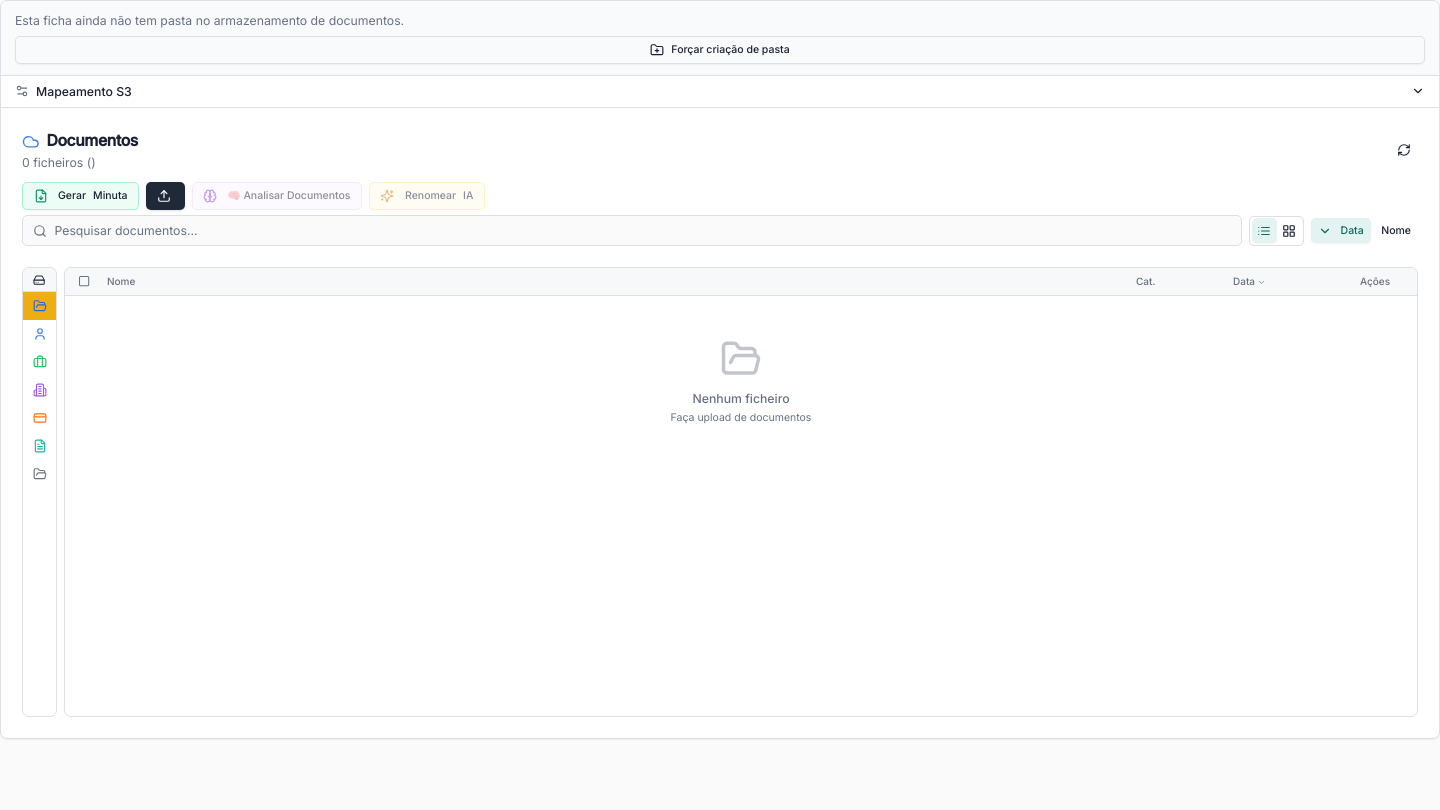
Scenario: S3FileManager — «Forçar criação de pasta» (Lote 6) › depois do sucesso o painel «Mapeamento S3» fecha (a dropdown velha desaparece) e o explorador é relido (Lote 7.3)
Click the button with test id "s3-mapping-toggle": coordinates (84, 91) [1, 76, 1439, 107]
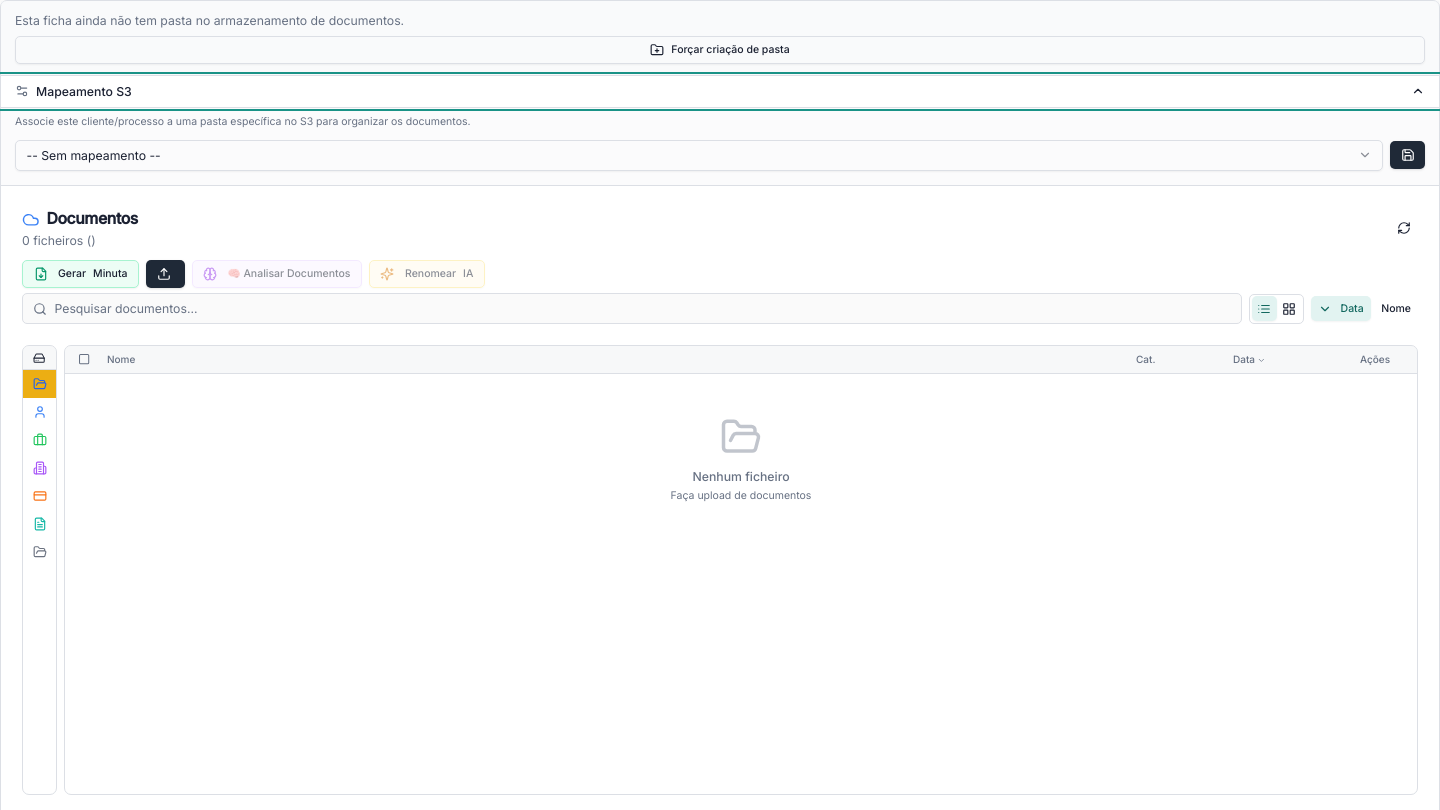
Now the dropdown with test id "s3-folder-select" is shown, box [15, 140, 1383, 171]
Click the button with test id "forcar-pasta-s3-btn": coordinates (720, 50) [15, 36, 1425, 64]
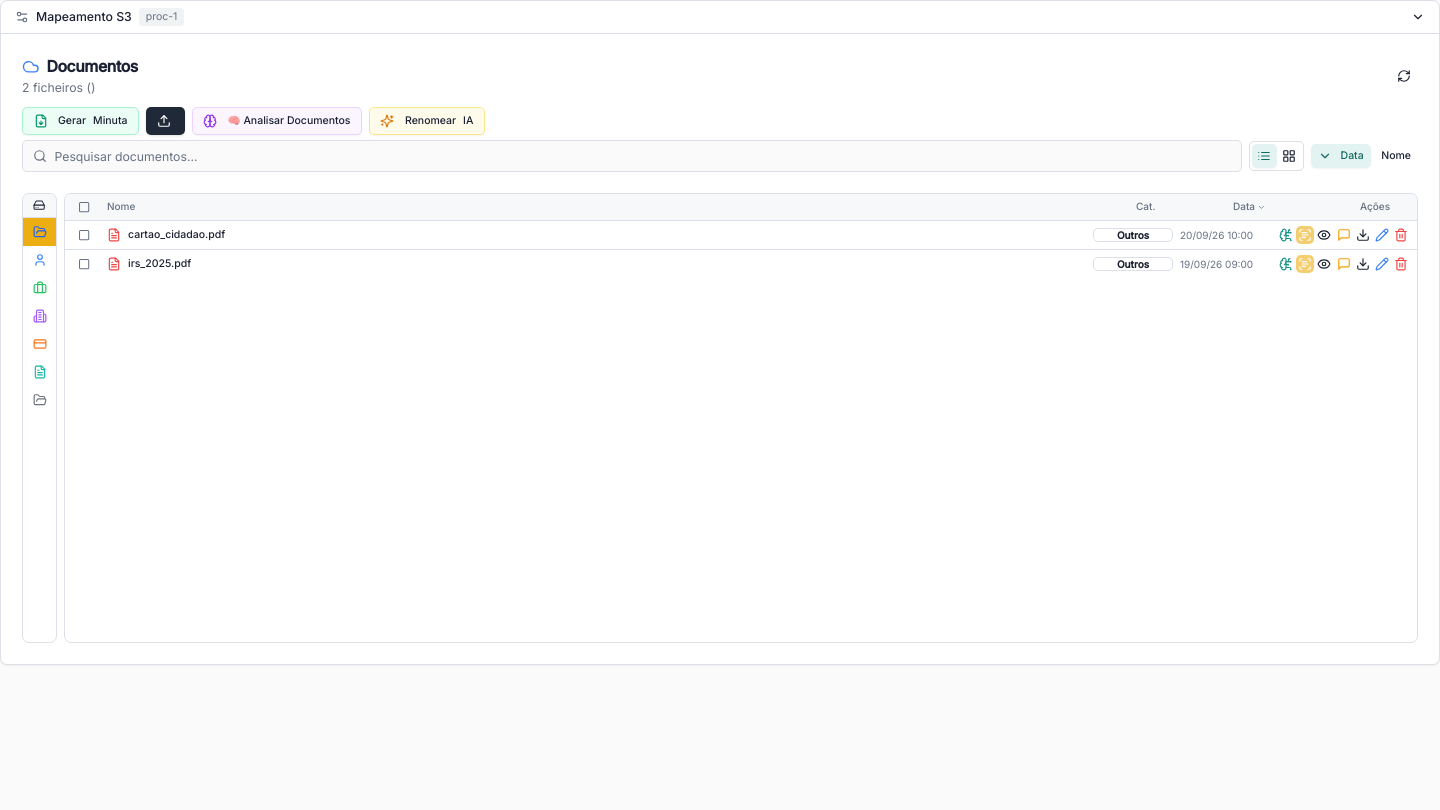
Now the dropdown with test id "s3-folder-select" is gone
Now the element with test id "forcar-pasta-s3" is gone
Now the button with test id "s3-mapping-toggle" shows "proc-1", box [1, 1, 1439, 32]
